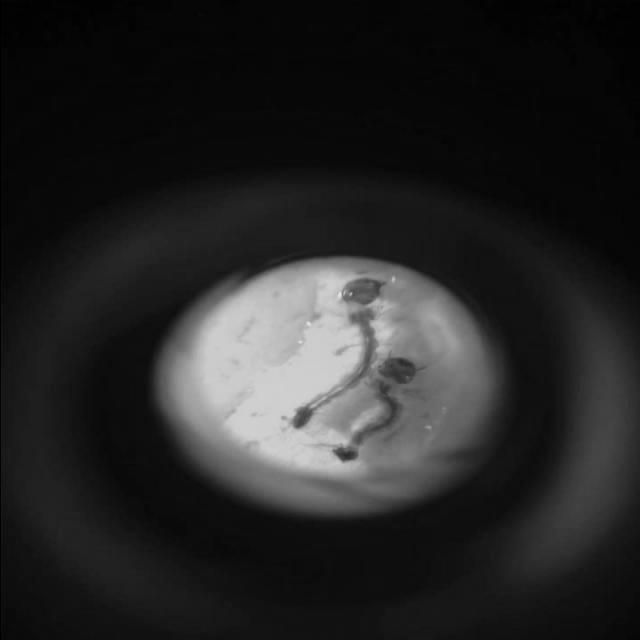larvas: (297, 277, 390, 428), (336, 355, 422, 462)
